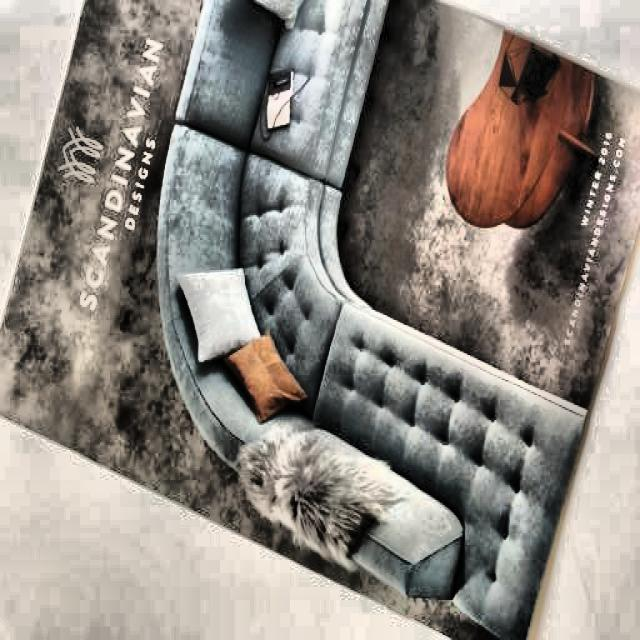paper: (38, 0, 639, 633)
